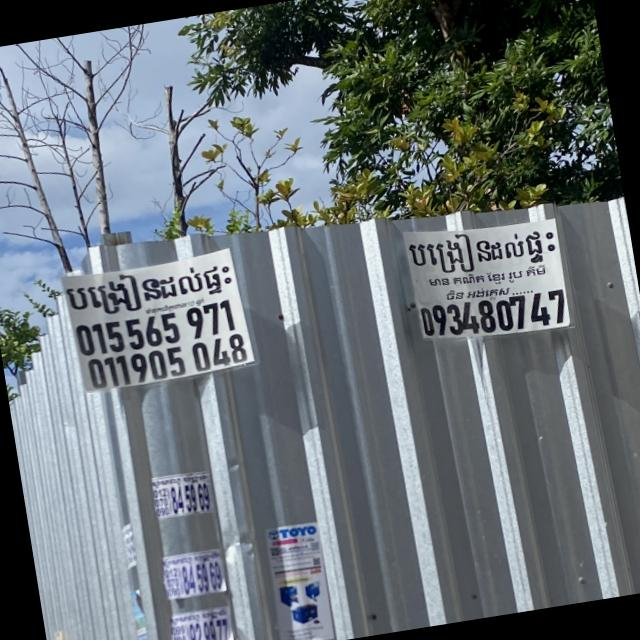2: (444, 283, 536, 303)
245: (85, 331, 254, 390)
299: (74, 294, 240, 361)
4: (423, 260, 548, 291)
455: (413, 285, 571, 340)
Yolov11_80vkh: (64, 257, 234, 323), (404, 223, 566, 282)
